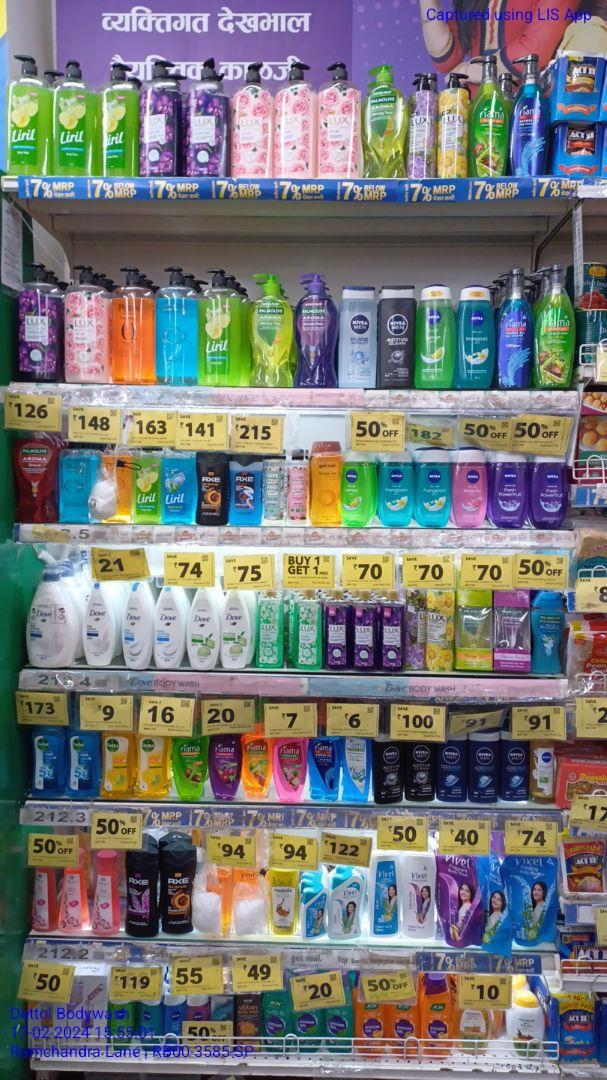Dettol_Bodywash_Cool: (31, 722, 66, 798), (68, 724, 100, 797)
Dettol_Bodywash_Refresh: (135, 734, 170, 799), (104, 727, 134, 798)
Dove_Deep_Moisture_Body_Wash_250ML: (84, 580, 115, 667)
Dove_Gentle_Exfoliating_Body_Wash_250ML: (120, 581, 152, 671), (155, 584, 187, 669)
Dove_Refreshing_Body_Wash_250ML: (189, 588, 221, 672), (224, 590, 250, 670)
Fiama_Shower_Gel_Lemongrass_and_Jojoba_250ML: (173, 738, 208, 803)
Fiama_Shower_Gel_Patchouli_and_Macadamia_250ML: (272, 737, 306, 803)
Fiama_Shower_Gel_Peach_and_Avocado_250ML: (243, 733, 270, 800)
Get_Real_Shower_Gel_Moisturising_Glycerin_300ML: (311, 442, 342, 527)
Joy_Shower_Gel_Mandarin_and_Lemongrass_250ML: (420, 971, 451, 1053), (356, 1003, 387, 1061), (391, 1001, 417, 1060)
Joy_Shower_Gel_Mint_and_Eucalyptus_250ML: (263, 991, 295, 1049), (326, 989, 354, 1054)
Liril_Cooling_Mint_Body_Wash_250ML: (164, 448, 196, 525)
Liril_Lime_and_Tea_Tree_Oil_Body_Wash_250ML: (134, 449, 162, 524)
Lux_Black_Orchid_Scent_and_Juniper_Oil_Body_Wash_245ML: (379, 587, 405, 670), (326, 587, 350, 670), (353, 590, 377, 673)
Lux_Body_Wash_Skin_Detox_Freesia_Scent_and_Alove_Vera_245ML: (294, 587, 324, 673), (257, 589, 285, 671)
Nivea_Shower_Gel_Frangipani_and_Oil_250ML: (457, 279, 494, 387), (377, 451, 413, 527), (416, 446, 448, 526)
Nivea_Shower_Gel_Fresh_Powerfruit_250ML: (489, 448, 527, 529), (532, 452, 569, 527)
Nivea_Shower_Gel_Lemon_and_Oil_250ML: (416, 285, 453, 388), (343, 452, 373, 525)
Nivea_Shower_Gel_Waterlily_and_Oil_250ML: (451, 446, 487, 529)
Palmolive_Aroma_Moments_Feel_The_Massage_Shower_Gel_250ML: (532, 589, 561, 675)
Pears_Pure_Glycerin_and_Mint_Extracts_Body_Wash_250ML: (59, 443, 88, 524)
